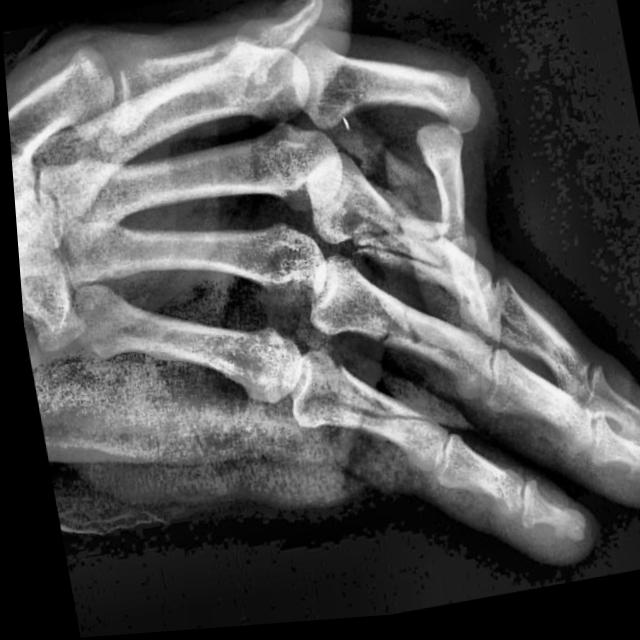fracture: (286, 374, 434, 460), (344, 227, 447, 293), (363, 306, 417, 362), (440, 121, 472, 150)
